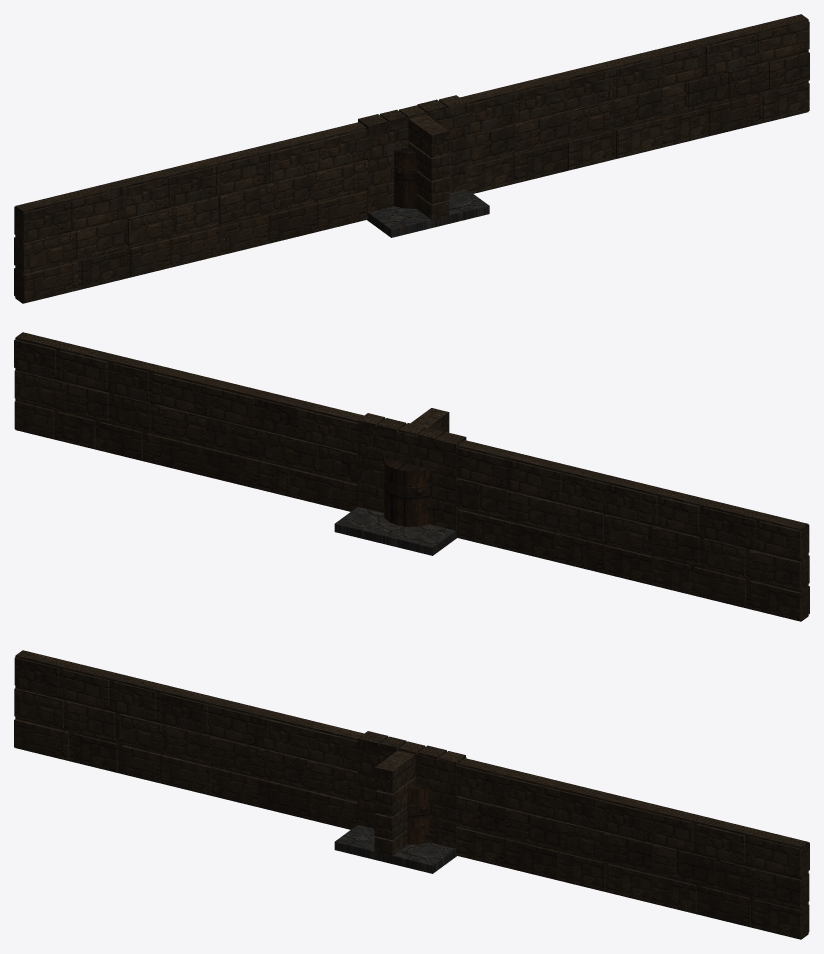
The model's file is room_slice.glb.
The picture shows the model from 3 angles, top to bottom: view 1: azimuth 30°, elevation 25°; view 2: azimuth 150°, elevation 25°; view 3: azimuth 330°, elevation 25°; orthographic projection.
Parts seen in each view (by area): view 1: ROOM_wall_run_8, ROOM_wall_run_5, ROOM_wall_run_3, ROOM_wall_run_2, ROOM_wall_outside, ROOM_wall_inside, ROOM_floor_a, ROOM_door_frame, ROOM_prop_barrel, ROOM_floor_b, ROOM_wall_end, ROOM_wall_straight; view 2: ROOM_wall_run_8, ROOM_wall_run_5, ROOM_wall_run_3, ROOM_wall_run_2, ROOM_floor_a, ROOM_prop_barrel, ROOM_wall_outside, ROOM_wall_end, ROOM_door_frame, ROOM_wall_inside; view 3: ROOM_wall_run_8, ROOM_wall_run_5, ROOM_wall_run_3, ROOM_wall_run_2, ROOM_wall_inside, ROOM_wall_outside, ROOM_floor_a, ROOM_door_frame, ROOM_prop_barrel, ROOM_wall_end.
Part boxes in pixels (x1,y1,x2,y2): ROOM_wall_run_8: (14,14,809,303); ROOM_wall_run_5: (163,50,662,267); ROOM_wall_run_3: (262,74,563,243); ROOM_wall_run_2: (312,86,515,230); ROOM_wall_outside: (358,104,466,219); ROOM_wall_inside: (408,107,466,227); ROOM_floor_a: (368,189,489,237); ROOM_door_frame: (358,95,466,208); ROOM_prop_barrel: (394,147,417,208); ROOM_floor_b: (367,207,489,237); ROOM_wall_end: (426,105,466,192); ROOM_wall_straight: (370,173,466,211); ROOM_wall_run_8: (14,332,809,621); ROOM_wall_run_5: (161,368,659,584); ROOM_wall_run_3: (260,392,562,561); ROOM_wall_run_2: (309,404,511,548); ROOM_floor_a: (334,507,455,555); ROOM_prop_barrel: (384,457,429,526); ROOM_wall_outside: (357,408,465,538); ROOM_wall_end: (357,422,415,512); ROOM_door_frame: (357,413,466,538); ROOM_wall_inside: (357,408,449,511); ROOM_wall_run_8: (14,650,809,939); ROOM_wall_run_5: (161,686,657,903); ROOM_wall_run_3: (259,710,562,879); ROOM_wall_run_2: (309,722,510,867); ROOM_wall_inside: (374,750,455,863); ROOM_wall_outside: (357,742,455,854); ROOM_floor_a: (334,825,456,873); ROOM_door_frame: (357,731,465,848); ROOM_prop_barrel: (406,783,429,844); ROOM_wall_end: (400,750,466,843).
Bounding box in the file's own units: 8 × 0.92 × 1.
5 materials, 4 textured.
